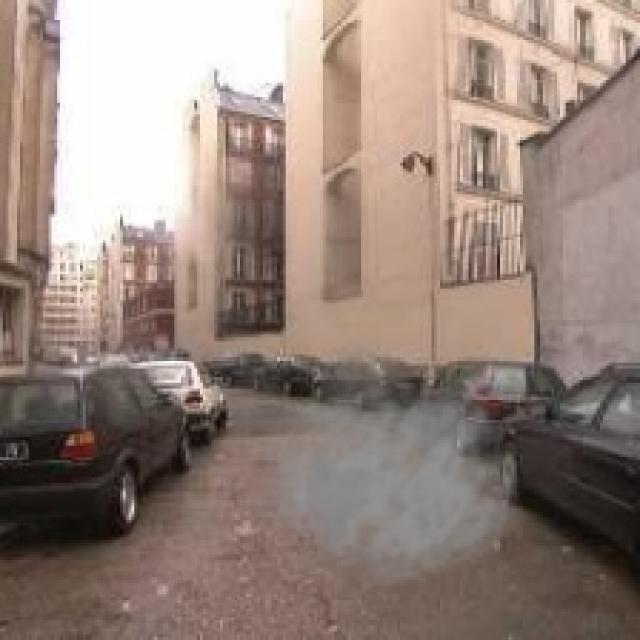smoke: (246, 354, 528, 589)
